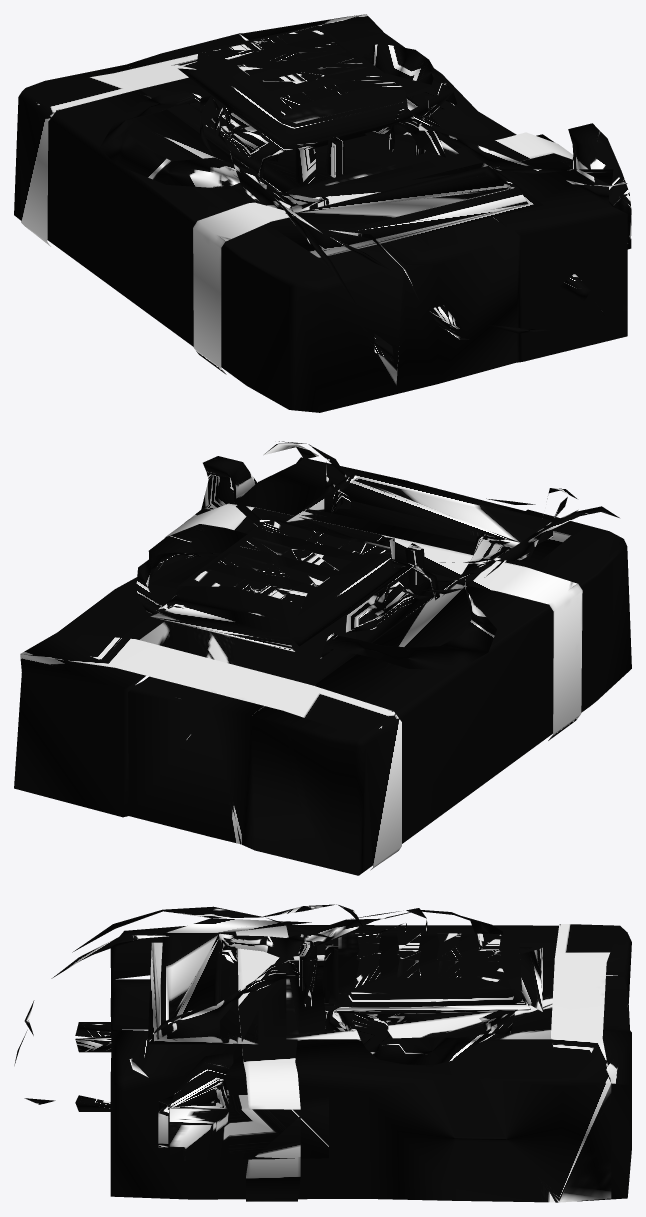
3 renders of one model, top to bottom at view 1: azimuth 30°, elevation 25°; view 2: azimuth 150°, elevation 25°; view 3: azimuth 270°, elevation 25°, orthographic. The views are drawn at different scales.
Visible parts, largest first — view 1: c4; view 2: c4; view 3: c4.
Boxes of the visible parts, x1=… form: c4: x1=14, y1=14, x2=631, y2=412; c4: x1=14, y1=441, x2=631, y2=875; c4: x1=14, y1=904, x2=631, y2=1202.
Size of the model in its own units: 0.1987 by 0.0977 by 0.2975.
1 material, 1 textured.
